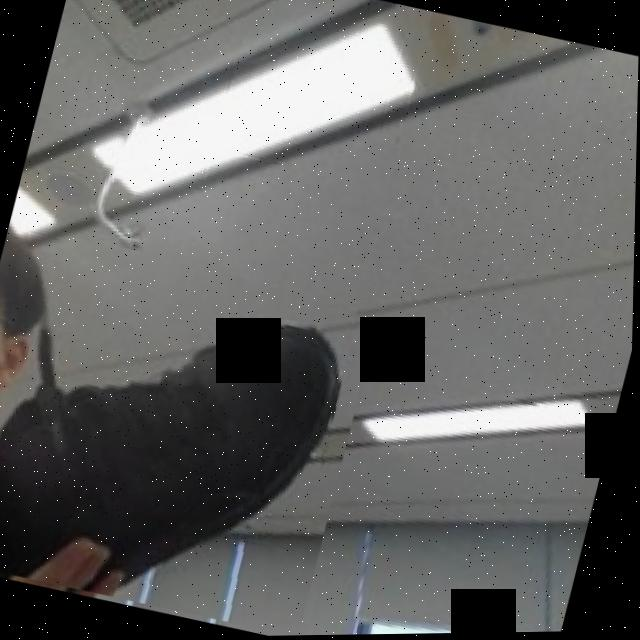shoe: (0, 222, 384, 640)
